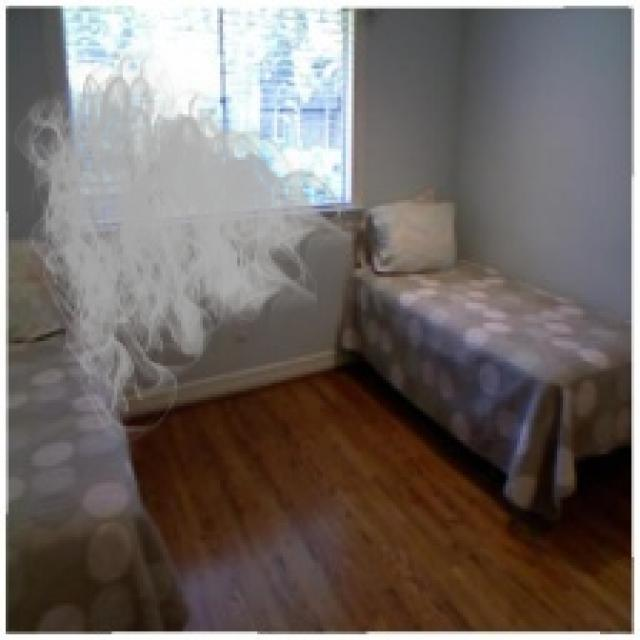smoke: (6, 37, 351, 449)
